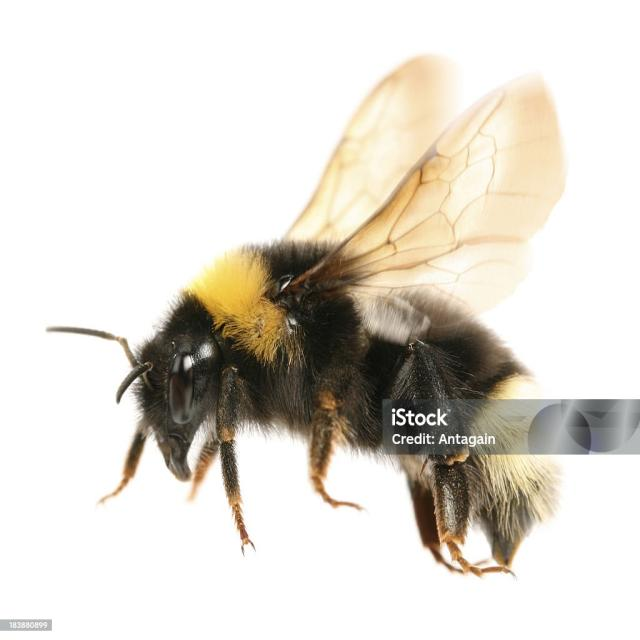bee: (46, 51, 565, 581)
